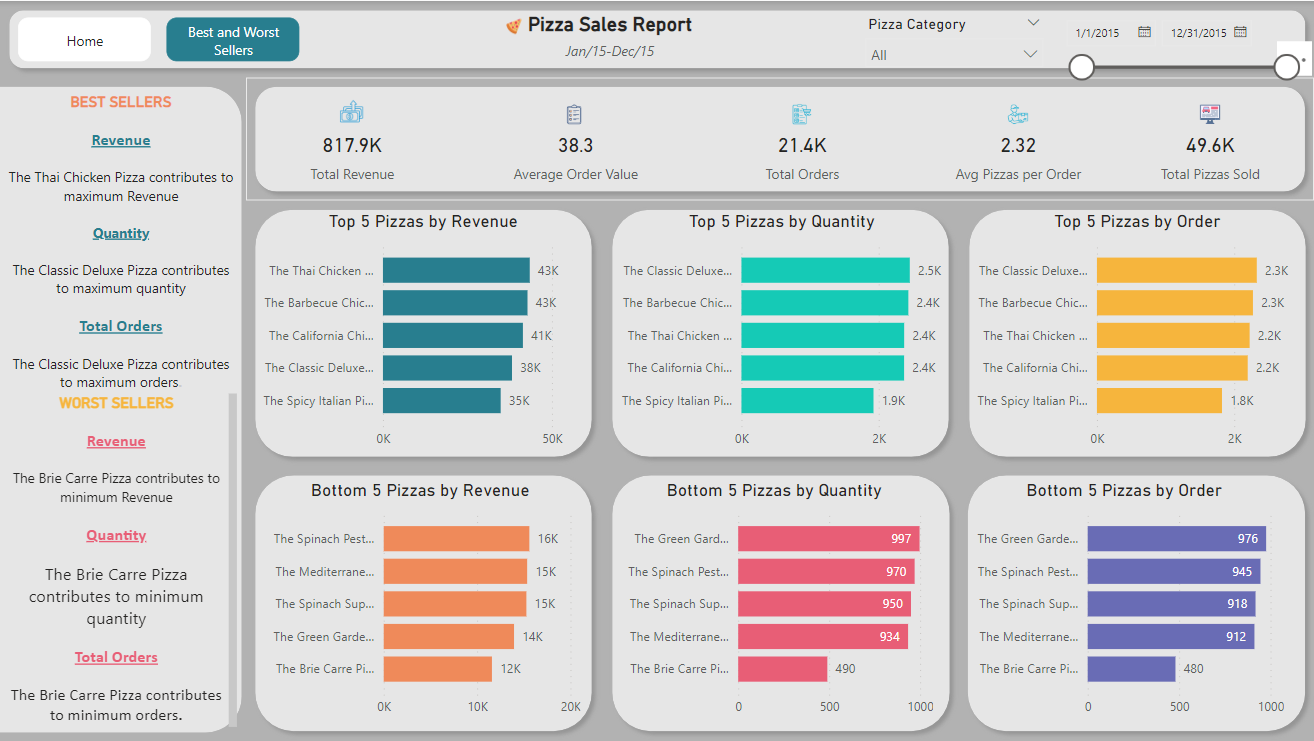

This screenshot's page, from the dashboard's own definition file:
{"tool":"powerbi","page":{"name":"Best and Worst Sellers","canvas":[1280,720],"ordinal":1},"visuals":[{"type":"shape","box":[0,82.7,235.5,629.1],"z":0},{"type":"shape","box":[0,0,1280,74.5],"z":1000},{"type":"shape","box":[240,74.5,1040,120],"z":2000},{"type":"shape","box":[933.5,452.5,346.5,267.2],"z":3000},{"type":"shape","box":[587,452.5,346.5,267.2],"z":4000},{"type":"shape","box":[239.6,452.5,345.6,267.2],"z":5000},{"type":"textbox","title":"Pizza Sales Report","box":[444.5,11.8,300,50],"z":6000},{"type":"image","box":[482.7,11.8,34.5,25.5],"z":7000},{"type":"card","fields":{"Values":["pizza_sales.Total Revenue"]},"box":[265.5,110.9,153.6,76.4],"z":8000},{"type":"card","fields":{"Values":["pizza_sales.Total Pizzas Sold"]},"box":[1100.9,110.9,153.6,76.4],"z":9000},{"type":"card","fields":{"Values":["pizza_sales.Total Orders"]},"box":[704.5,110.9,153.6,76.4],"z":10000},{"type":"card","fields":{"Values":["pizza_sales.Average Pizzas per Order"]},"box":[913.6,110.9,153.6,76.4],"z":11000},{"type":"card","fields":{"Values":["pizza_sales.Average Order Value"]},"box":[482.7,110.9,153.6,76.4],"z":12000},{"type":"image","box":[321.8,89.1,41.8,36.4],"z":13000},{"type":"image","box":[760,95.5,42.7,30],"z":14000},{"type":"image","box":[533.6,95.5,51.8,30],"z":15000},{"type":"image","box":[969.1,95.5,42.7,30],"z":16000},{"type":"image","box":[1158.2,95.5,40,30],"z":17000},{"type":"textbox","box":[0,82.7,235.5,313.6],"z":18000},{"type":"textbox","box":[0,377.3,235.5,342.7],"z":19000},{"type":"slicer","fields":{"Values":["pizza_sales.pizza_category"]},"box":[832.6,8.6,193.1,65.5],"z":20000},{"type":"slicer","fields":{"Values":["pizza_sales.order_date"]},"box":[1025.5,8.2,249.1,74.5],"z":21000},{"type":"shape","box":[934.4,193.9,345.6,258.6],"z":22000},{"type":"shape","box":[587,193.9,345.6,258.6],"z":23000},{"type":"shape","box":[239.6,193.9,345.6,258.6],"z":24000},{"type":"barChart","title":"Top 5 Pizzas by Revenue","fields":{"Y":["pizza_sales.Total Revenue"],"Category":["pizza_sales.pizza_name"]},"box":[240,204.5,345.5,239.1],"z":25000},{"type":"barChart","title":"Bottom 5 Pizzas by Revenue","fields":{"Y":["pizza_sales.Total Revenue"],"Category":["pizza_sales.pizza_name"]},"box":[248.2,466.4,321.8,239.1],"z":26000},{"type":"barChart","title":"Top 5 Pizzas by Quantity","fields":{"Category":["pizza_sales.pizza_name"],"Y":["pizza_sales.Total Pizzas Sold"]},"box":[589.1,204.5,345.5,239.1],"z":27000},{"type":"barChart","title":"Bottom 5 Pizzas by Quantity","fields":{"Category":["pizza_sales.pizza_name"],"Y":["pizza_sales.Total Pizzas Sold"]},"box":[594.5,466.4,319.1,239.1],"z":28000},{"type":"barChart","title":"Top 5 Pizzas by Order","fields":{"Category":["pizza_sales.pizza_name"],"Y":["pizza_sales.Total Orders"]},"box":[934.5,204.5,345.5,239.1],"z":29000},{"type":"barChart","title":"Bottom 5 Pizzas by Order","fields":{"Category":["pizza_sales.pizza_name"],"Y":["pizza_sales.Total Orders"]},"box":[934.5,466.4,320,239.1],"z":30000},{"type":"pageNavigator","box":[18.2,15.5,129.1,42.7],"z":31000},{"type":"pageNavigator","box":[161.8,15.5,129.1,42.7],"z":32000}]}

Visuals, with their boxes in screenshot pixels (x1, y1, x2, y2), scaled from the page's 1280x720 canvas onto the 1314x741 screenshot:
shape: locate(0, 85, 242, 733)
shape: locate(0, 0, 1313, 77)
shape: locate(246, 77, 1313, 200)
shape: locate(958, 466, 1313, 740)
shape: locate(603, 466, 958, 740)
shape: locate(246, 466, 601, 740)
"Pizza Sales Report" textbox: locate(456, 12, 764, 64)
image: locate(496, 12, 531, 38)
card - pizza_sales.Total Revenue: locate(273, 114, 430, 193)
card - pizza_sales.Total Pizzas Sold: locate(1130, 114, 1288, 193)
card - pizza_sales.Total Orders: locate(723, 114, 881, 193)
card - pizza_sales.Average Pizzas per Order: locate(938, 114, 1096, 193)
card - pizza_sales.Average Order Value: locate(496, 114, 653, 193)
image: locate(330, 92, 373, 129)
image: locate(780, 98, 824, 129)
image: locate(548, 98, 601, 129)
image: locate(995, 98, 1039, 129)
image: locate(1189, 98, 1230, 129)
textbox: locate(0, 85, 242, 408)
textbox: locate(0, 388, 242, 740)
slicer - pizza_sales.pizza_category: locate(855, 9, 1053, 76)
slicer - pizza_sales.order_date: locate(1053, 8, 1308, 85)
shape: locate(959, 200, 1313, 466)
shape: locate(603, 200, 957, 466)
shape: locate(246, 200, 601, 466)
"Top 5 Pizzas by Revenue" barChart: locate(246, 210, 601, 457)
"Bottom 5 Pizzas by Revenue" barChart: locate(255, 480, 585, 726)
"Top 5 Pizzas by Quantity" barChart: locate(605, 210, 959, 457)
"Bottom 5 Pizzas by Quantity" barChart: locate(610, 480, 938, 726)
"Top 5 Pizzas by Order" barChart: locate(959, 210, 1313, 457)
"Bottom 5 Pizzas by Order" barChart: locate(959, 480, 1288, 726)
pageNavigator: locate(19, 16, 151, 60)
pageNavigator: locate(166, 16, 299, 60)
